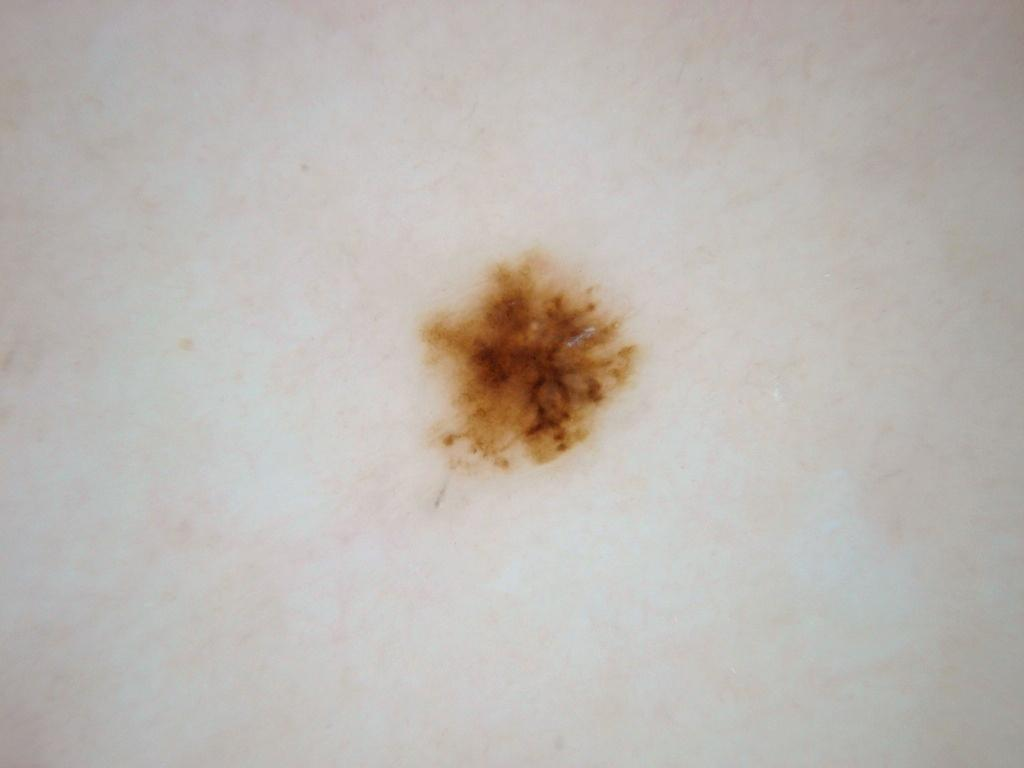Detected Lesion: (415, 236, 648, 479)
